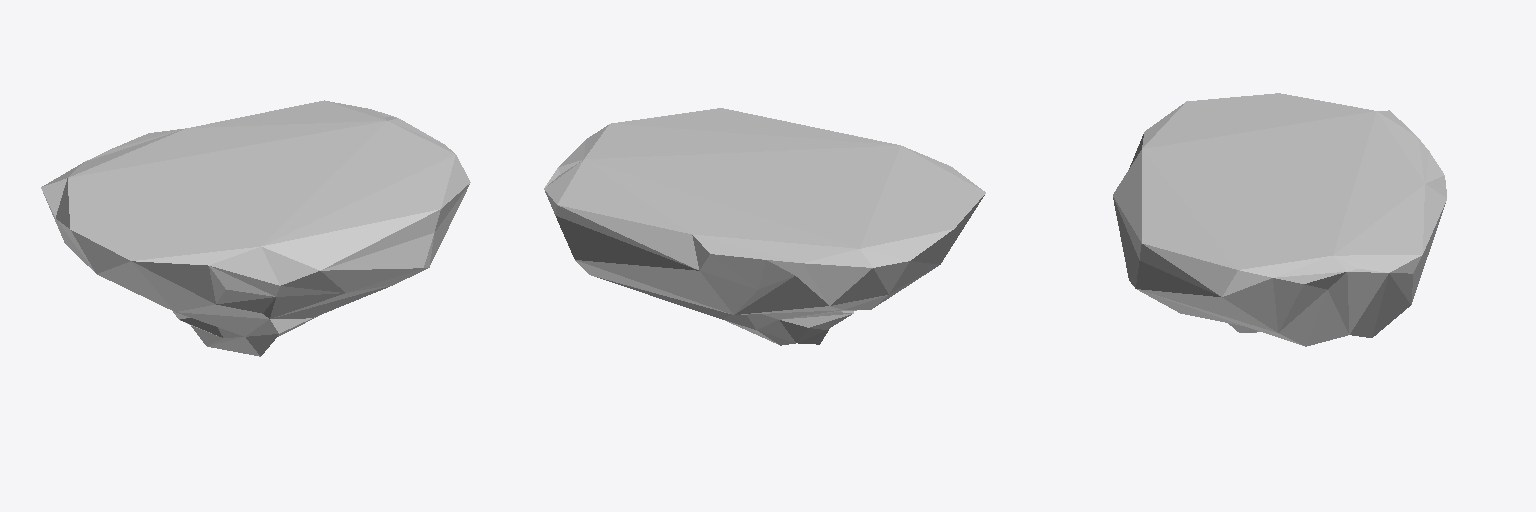
The model's file is IslandMini2.obj.
The picture shows the model from 3 angles: view 1: azimuth 30°, elevation 25°; view 2: azimuth 150°, elevation 25°; view 3: azimuth 270°, elevation 25°; orthographic projection.
Visible parts, largest first — view 1: Mini_Island_2_Sphere.007; view 2: Mini_Island_2_Sphere.007; view 3: Mini_Island_2_Sphere.007.
Part boxes in pixels (left/top/right/bottom): Mini_Island_2_Sphere.007: left=41, top=100, right=470, bottom=356; Mini_Island_2_Sphere.007: left=544, top=108, right=985, bottom=345; Mini_Island_2_Sphere.007: left=1113, top=93, right=1446, bottom=346.
Bounding box in the file's own units: 19.45 × 7.73 × 15.17.